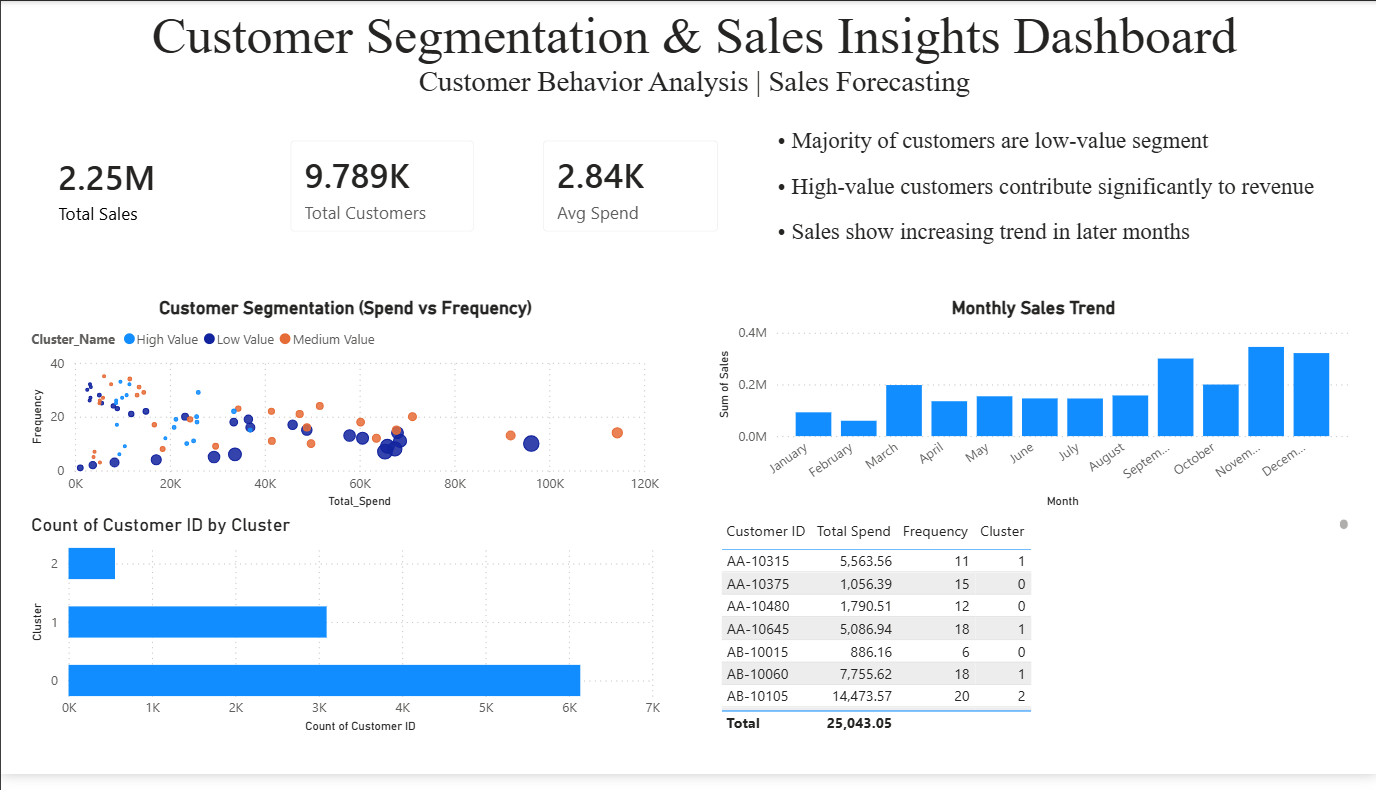

Layout of this report page (visuals, bound fields, positions):
{"tool":"powerbi","page":{"name":"Dashboard","canvas":[1280,720],"ordinal":0},"visuals":[{"type":"textbox","box":[0,0,1280.2,101.2],"z":0},{"type":"cardVisual","fields":{"Data":["Sum(cleaned_sales.Sales)"]},"box":[23.3,114,217.4,118.6],"z":1000},{"type":"cardVisual","fields":{"Data":["CountNonNull(cleaned_sales.Customer ID)"]},"box":[252.3,112.8,205.8,119.8],"z":2000},{"type":"cardVisual","fields":{"Data":["cleaned_sales.Avg Spend"]},"box":[487.2,112.8,197.7,119.8],"z":3000},{"type":"scatterChart","title":"Customer Segmentation (Spend vs Frequency)","fields":{"X":["cleaned_sales.Total_Spend"],"Y":["customer_segments.Frequency"],"Series":["customer_segments.Cluster_Name"],"Size":["CountNonNull(customer_segments.Total_Spend)"]},"box":[23.3,251.2,594.2,201.2],"z":4000},{"type":"lineClusteredColumnComboChart","title":"Monthly Sales Trend","fields":{"Y":["Sum(cleaned_sales.Sales)"],"Category":["cleaned_sales.Order Date.Variation.Date Hierarchy.Month"]},"box":[662.8,251.2,595.4,201.2],"z":5000},{"type":"clusteredBarChart","fields":{"Category":["customer_segments.Cluster_Name"],"Y":["CountNonNull(cleaned_sales.Customer ID)"]},"box":[22.7,476.7,594.8,208.8],"z":6000},{"type":"tableEx","fields":{"Values":["customer_segments.Customer ID","customer_segments.Total_Spend","customer_segments.Frequency","customer_segments.Cluster"]},"box":[664.4,476.7,594.8,208.8],"z":7000},{"type":"textbox","box":[717.4,112.8,562.8,120.9],"z":8000}]}

Visuals, with their boxes in screenshot pixels (x1, y1, x2, y2), scaled from the page's 1280x720 canvas onto the 1376x790 screenshot:
textbox: region(0, 0, 1375, 111)
cardVisual - Sum(cleaned_sales.Sales): region(25, 125, 259, 255)
cardVisual - CountNonNull(cleaned_sales.Customer ID): region(271, 124, 492, 255)
cardVisual - cleaned_sales.Avg Spend: region(524, 124, 736, 255)
"Customer Segmentation (Spend vs Frequency)" scatterChart: region(25, 276, 664, 496)
"Monthly Sales Trend" lineClusteredColumnComboChart: region(713, 276, 1353, 496)
clusteredBarChart - customer_segments.Cluster_Name x CountNonNull(cleaned_sales.Customer ID): region(24, 523, 664, 752)
tableEx - customer_segments.Customer ID x customer_segments.Total_Spend: region(714, 523, 1354, 752)
textbox: region(771, 124, 1375, 256)
